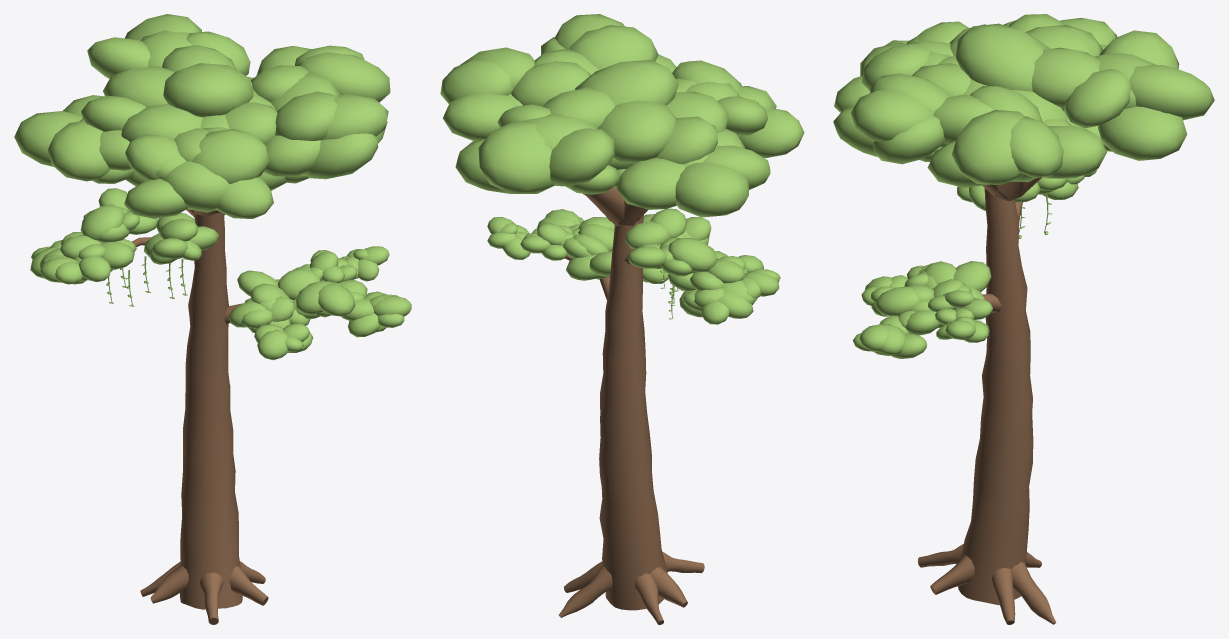
File: SM_FirstSteps_Tree_04.glb
3 views of the same model, side by side, from view 1: azimuth 30°, elevation 25°; view 2: azimuth 150°, elevation 25°; view 3: azimuth 270°, elevation 25° (orthographic). The views are drawn at different scales.
Visible parts, largest first — view 1: CrownMesh, Trunk, BoughMeshA, BoughMeshB; view 2: CrownMesh, Trunk, BoughMeshB, BoughMeshA; view 3: CrownMesh, Trunk, BoughMeshA, BoughMeshB.
Boxes of the visible parts, box(x1,y1,x2,y2) form: CrownMesh: box(14, 14, 390, 218); Trunk: box(140, 212, 268, 624); BoughMeshA: box(224, 246, 411, 360); BoughMeshB: box(30, 188, 218, 306); CrownMesh: box(440, 14, 804, 225); Trunk: box(559, 215, 704, 624); BoughMeshB: box(624, 208, 780, 324); BoughMeshA: box(487, 209, 668, 299); CrownMesh: box(833, 14, 1214, 201); Trunk: box(918, 188, 1056, 624); BoughMeshA: box(853, 261, 1001, 358); BoughMeshB: box(957, 169, 1096, 238).
Size of the model in its own units: 30.75 by 48.08 by 29.24.
